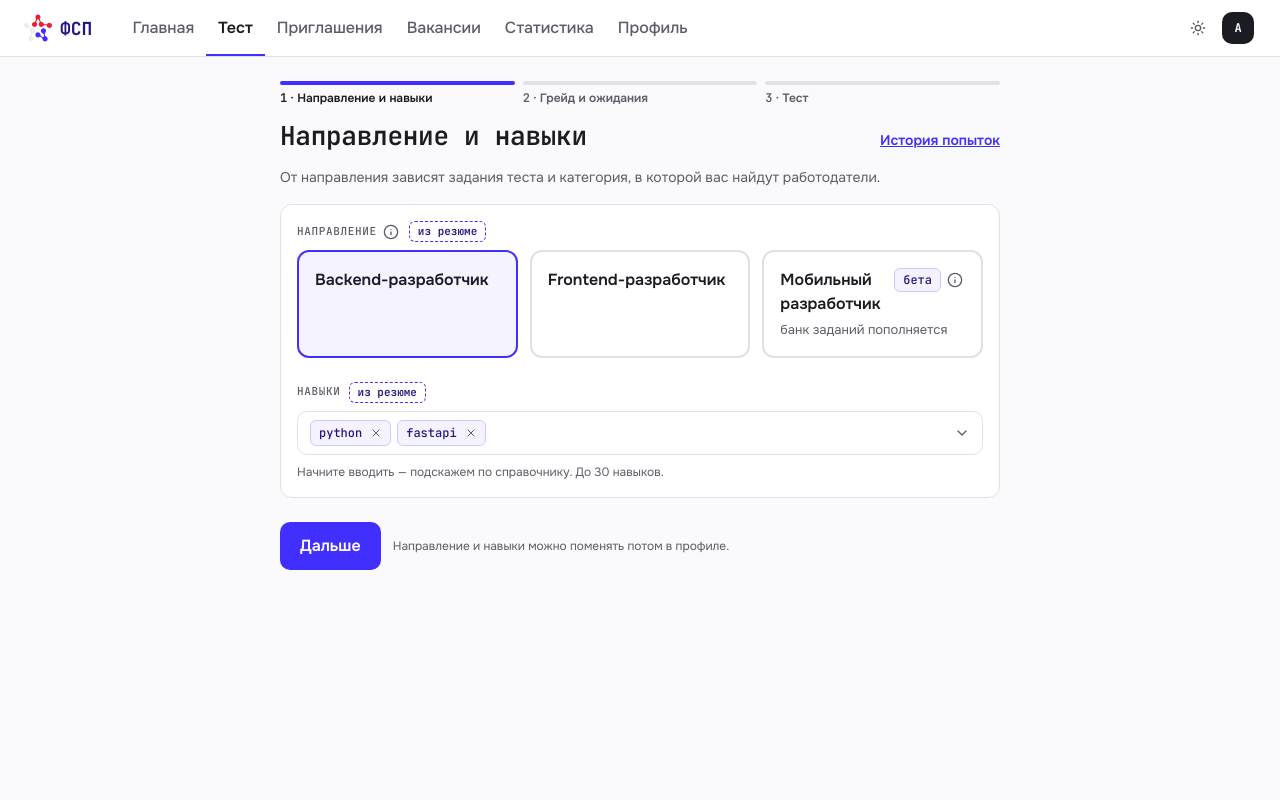
Test: поток до теста › экспресс-режим: ?mode=express включает переключатель, попытка создаётся с mode
Click the button with test id "assessment-next".
click(330, 546)  # box [280,522,381,570]
(page scrolled)
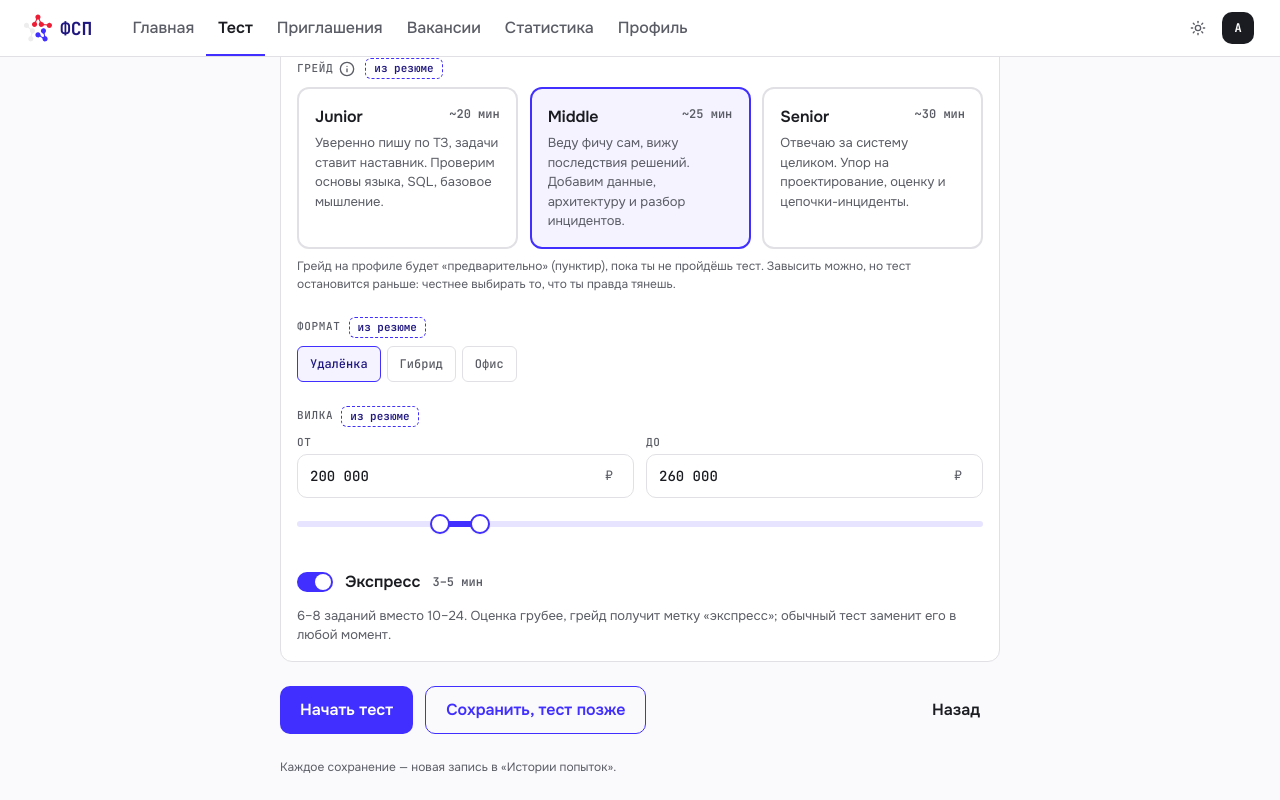
Result: the checkbox with test id "assessment-express-toggle" is checked at [297,571,483,592]
Click the button with test id "assessment-start".
click(347, 710)  # box [280,686,413,734]
(page scrolled)
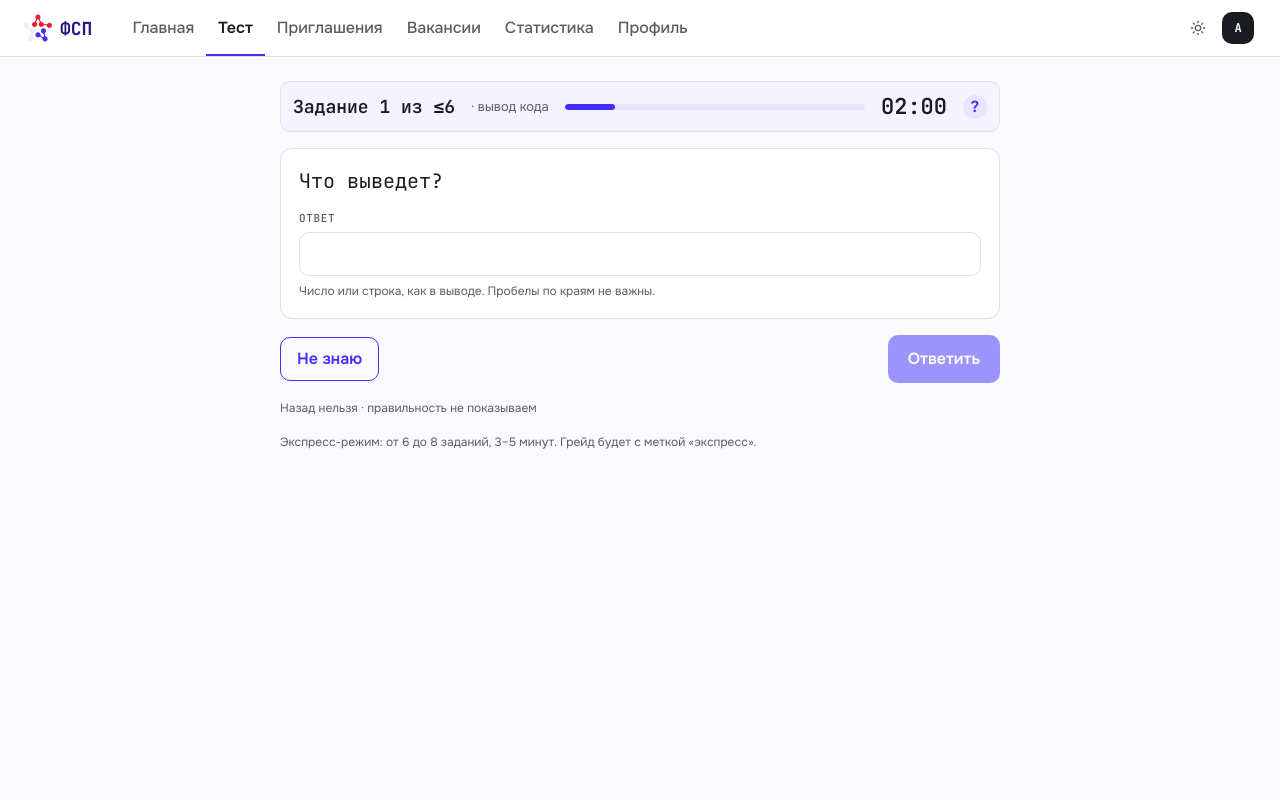
Result: the text with test id "assessment-range" shows "от 6 до 8" at [280,434,757,450]
